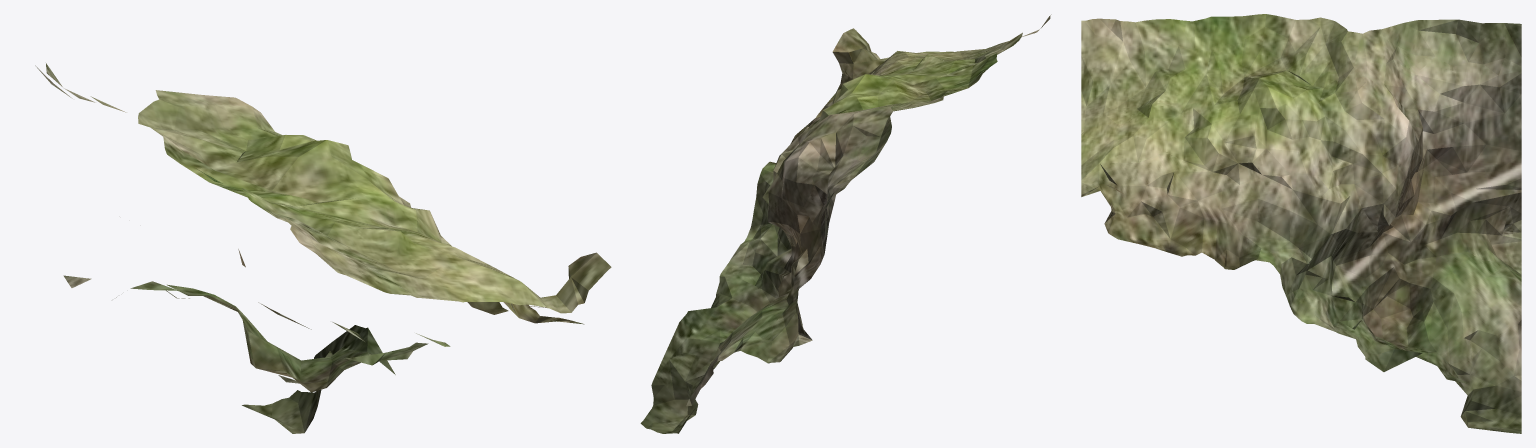
3 views of the same model, side by side, from view 1: azimuth 30°, elevation 25°; view 2: azimuth 150°, elevation 25°; view 3: azimuth 270°, elevation 25° (orthographic). The views are drawn at different scales.
Size of the model in its own units: 1.7 by 2.36 by 2.95.
Materials: 2 (2 with a texture image).
